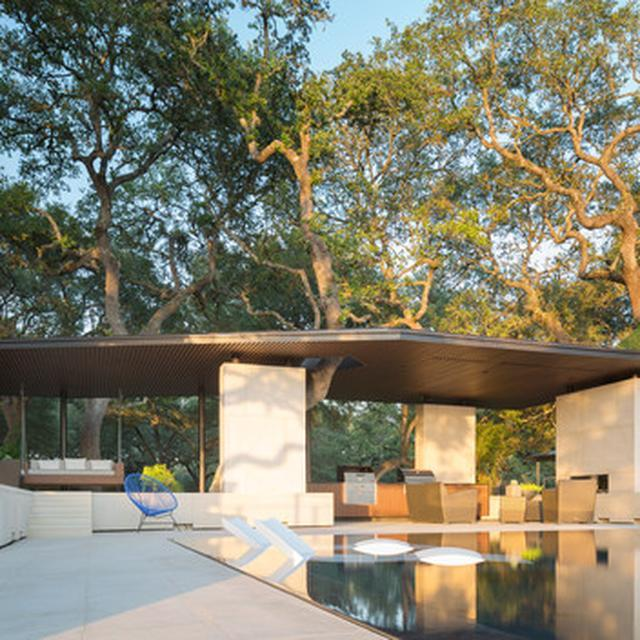building: (0, 329, 640, 524)
